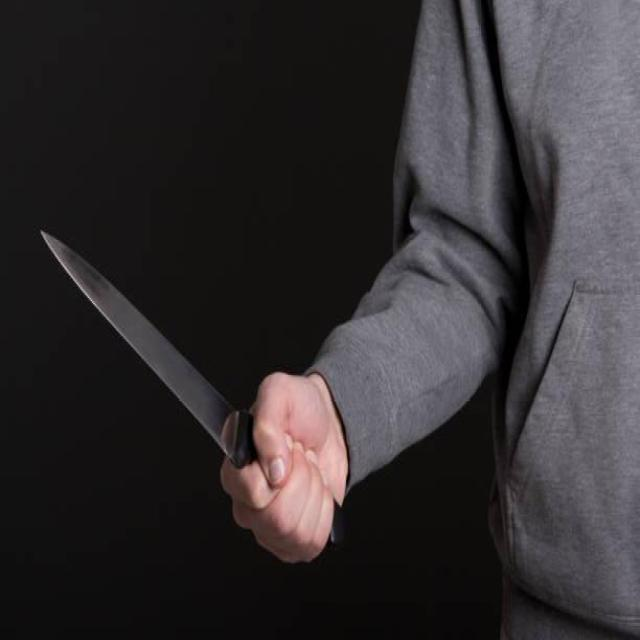faca: (35, 207, 362, 574)
